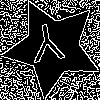Y: (27, 22, 68, 72)
